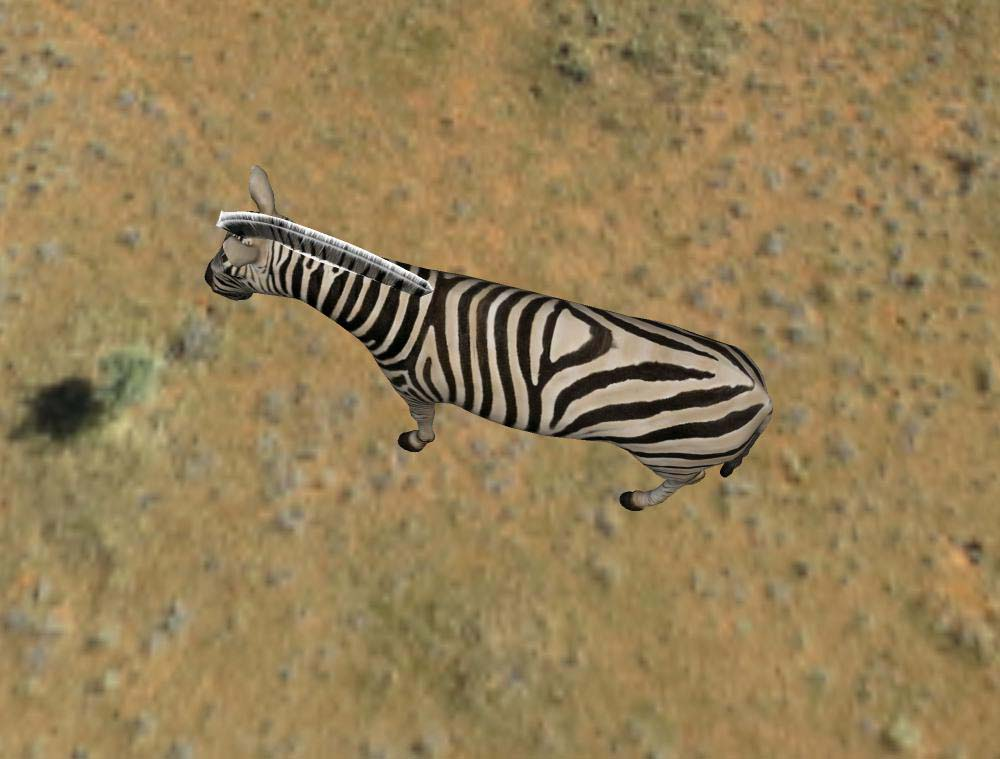zebra: (205, 176, 772, 523)
